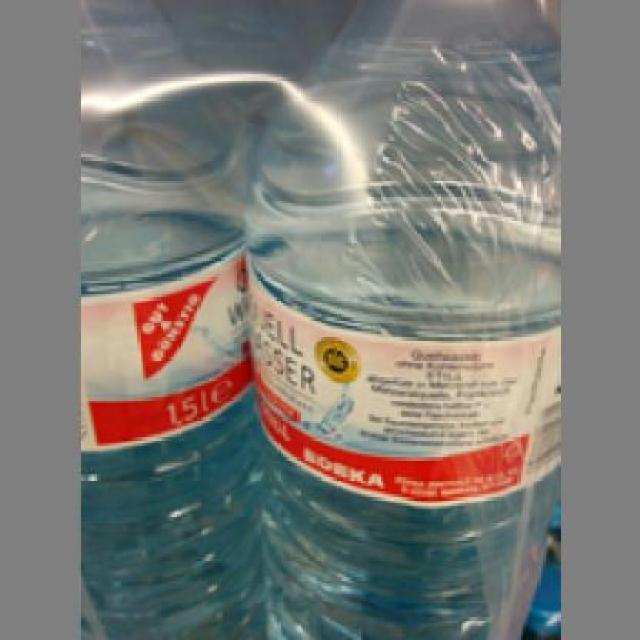Water: (237, 0, 557, 637), (77, 0, 243, 637)
